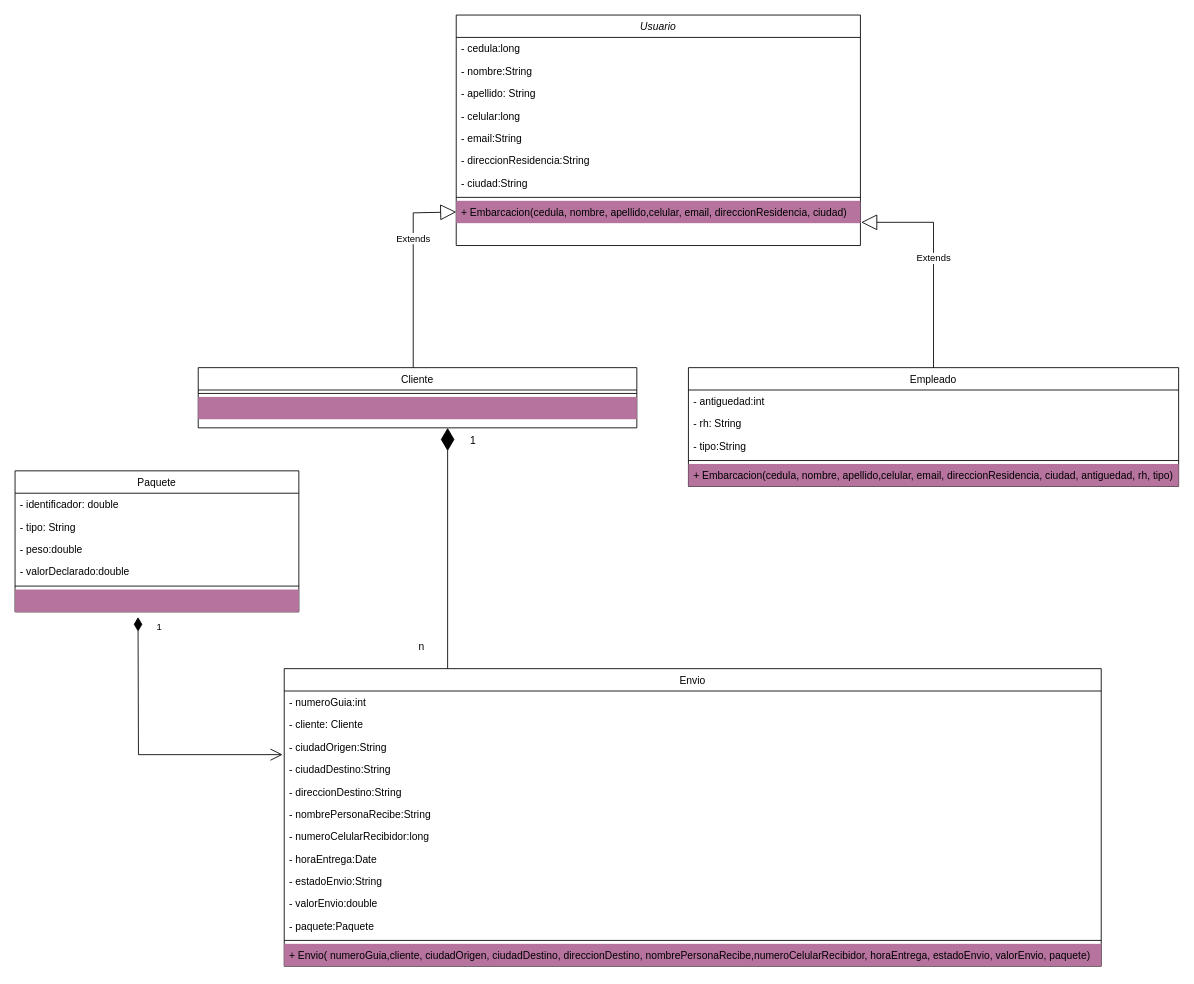
Image size: 1194x984. Some labels were removed from this diagram. The centre of each missing label's shape, as x and y in pixels:
+ Cliente(cedula, nombre, apellido,celular, email, direccionResidencia, ciudad): the point at 417,407
+ Paquete( identificador, tipo, peso, valorDeclarado): the point at 156,600
